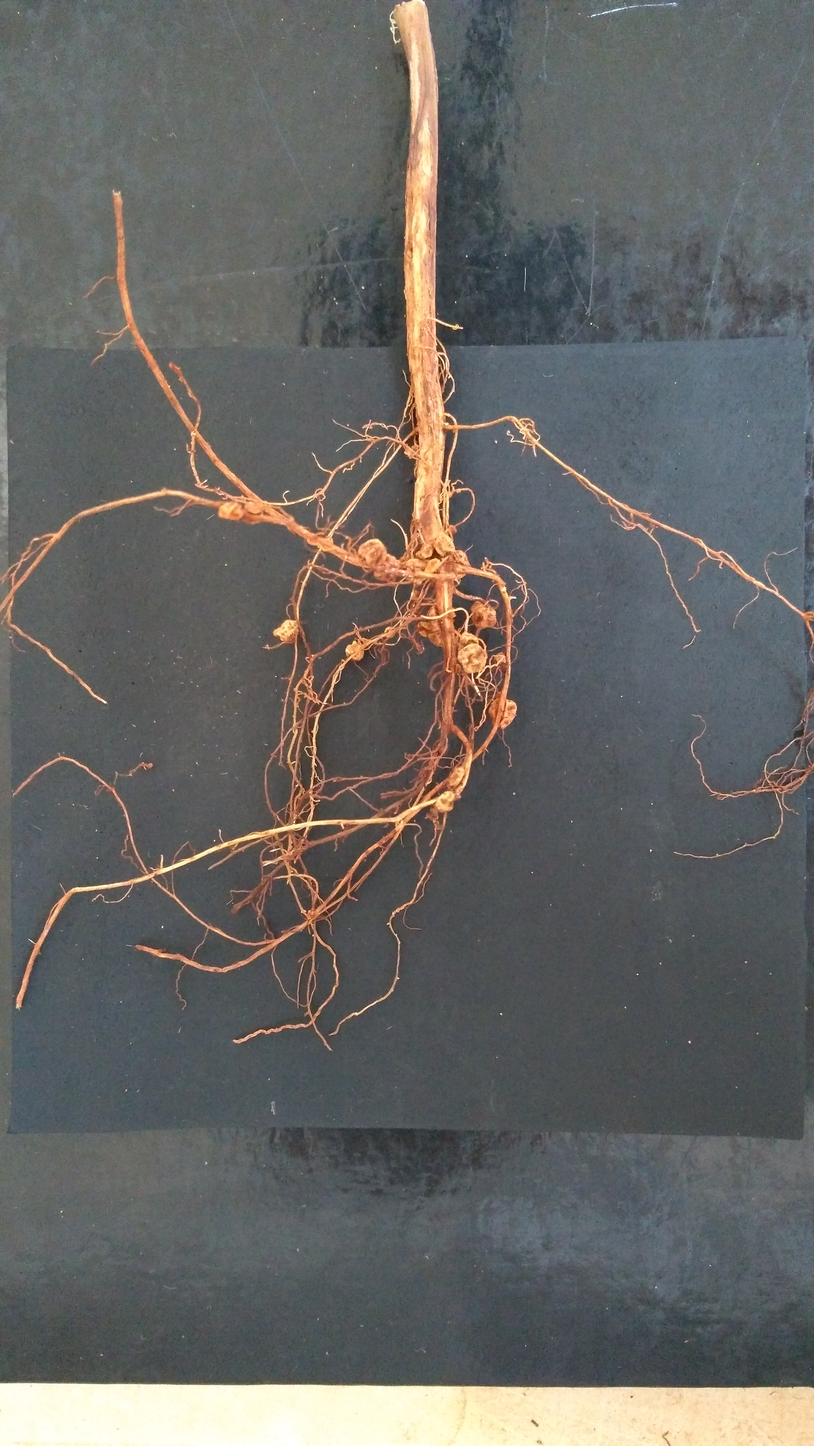nodule: (457, 631, 487, 673), (357, 538, 387, 573), (488, 697, 517, 730), (373, 554, 400, 584), (427, 604, 445, 648), (470, 599, 496, 627), (405, 558, 429, 585), (272, 619, 299, 642), (412, 578, 436, 602), (446, 767, 468, 792), (452, 549, 470, 579), (433, 533, 455, 557), (245, 500, 266, 525), (218, 501, 244, 521), (435, 791, 455, 814), (423, 558, 442, 580), (345, 641, 364, 661), (417, 621, 435, 638), (415, 543, 434, 559), (493, 652, 508, 672), (455, 663, 468, 676), (403, 449, 415, 460), (384, 626, 395, 637), (447, 606, 456, 619), (306, 909, 315, 918), (449, 525, 456, 534), (410, 444, 419, 451), (445, 491, 453, 498), (444, 422, 450, 426)
